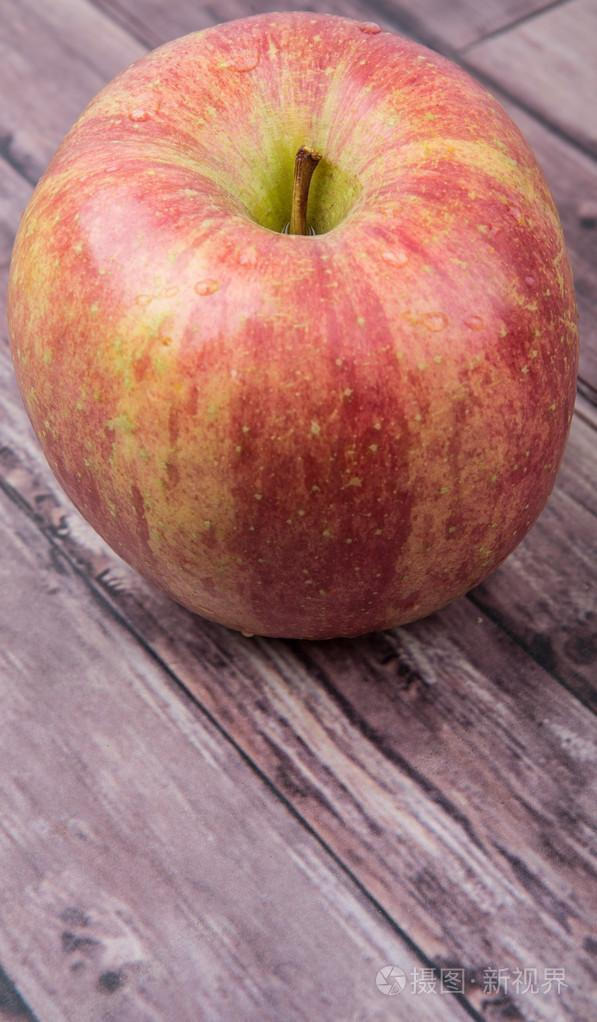apple: (6, 15, 583, 633)
